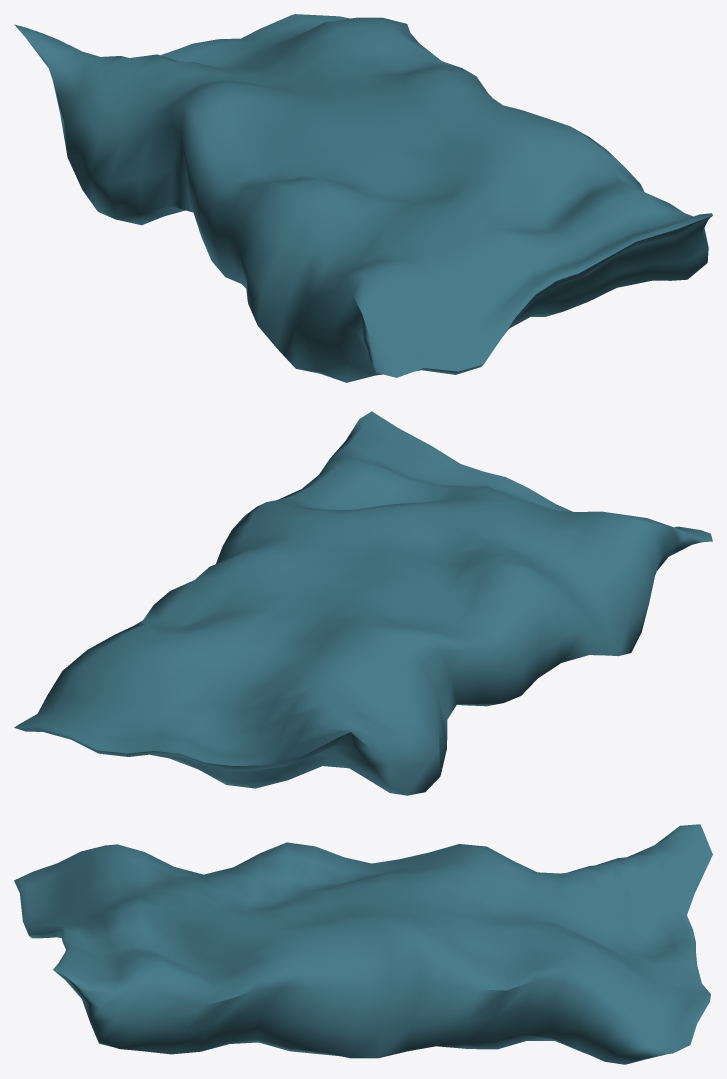
Rendered from SM_SmallTrashkit_snacks2_001.fbx.
3 views of the same model, one above another, from view 1: azimuth 30°, elevation 25°; view 2: azimuth 150°, elevation 25°; view 3: azimuth 270°, elevation 25° (orthographic). The views are drawn at different scales.
Visible parts, largest first — view 1: SM_SmallTrashkit_snacks2_001; view 2: SM_SmallTrashkit_snacks2_001; view 3: SM_SmallTrashkit_snacks2_001.
Part boxes in pixels (x1,y1,x2,y2): SM_SmallTrashkit_snacks2_001: (14, 14, 712, 382); SM_SmallTrashkit_snacks2_001: (14, 411, 712, 795); SM_SmallTrashkit_snacks2_001: (14, 824, 712, 1064).
Bounding box in the file's own units: 22.72 × 8.24 × 41.22.
